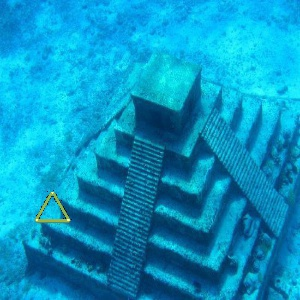triangle: (34, 187, 73, 225)
